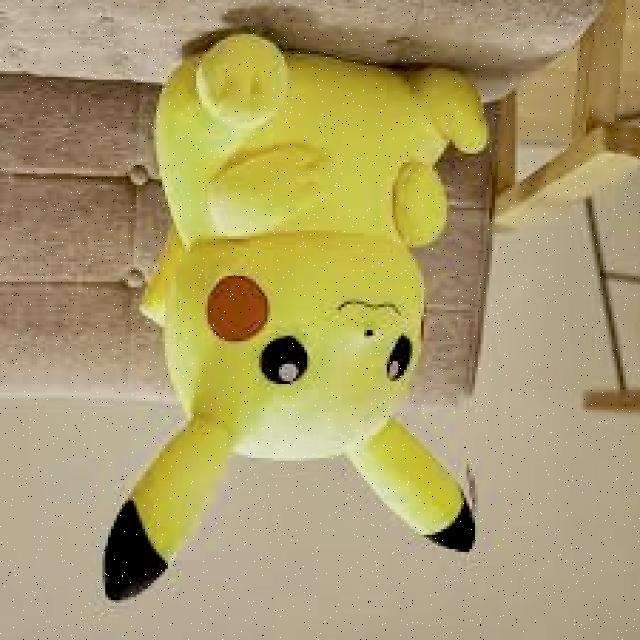pikachu: (98, 38, 514, 604)
